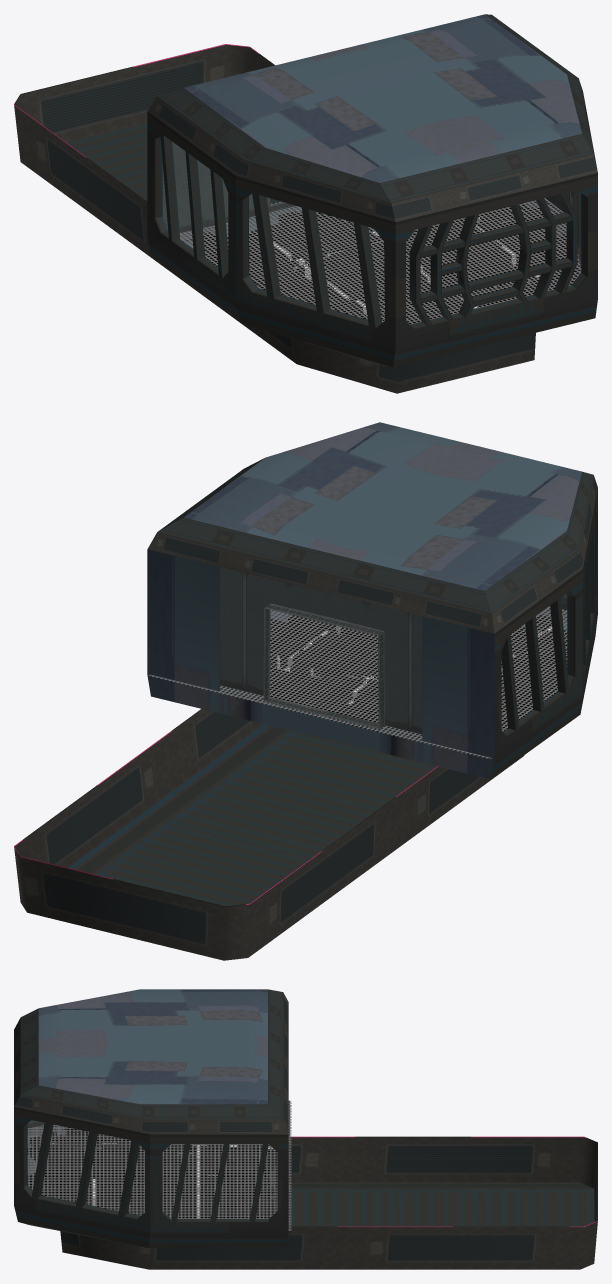
File: mdlArenaFinal.fbx
3 renders of one model, top to bottom at view 1: azimuth 30°, elevation 25°; view 2: azimuth 150°, elevation 25°; view 3: azimuth 270°, elevation 25°, orthographic. The views are drawn at different scales.
Visible parts, largest first — view 1: Arena, ArenaFloor, TechnologyCubes; view 2: Arena, ArenaFloor, TechnologyCubes; view 3: Arena, ArenaFloor, TechnologyCubes.
Boxes of the visible parts, x1=… form: Arena: x1=14, y1=14, x2=597, y2=393; ArenaFloor: x1=179, y1=198, x2=581, y2=324; TechnologyCubes: x1=203, y1=203, x2=578, y2=323; Arena: x1=14, y1=422, x2=597, y2=960; ArenaFloor: x1=148, y1=606, x2=567, y2=758; TechnologyCubes: x1=270, y1=615, x2=567, y2=731; Arena: x1=14, y1=989, x2=597, y2=1269; ArenaFloor: x1=27, y1=1100, x2=291, y2=1230; TechnologyCubes: x1=27, y1=1127, x2=277, y2=1218.
Size of the model in its own units: 15208 by 9789 by 28360.
